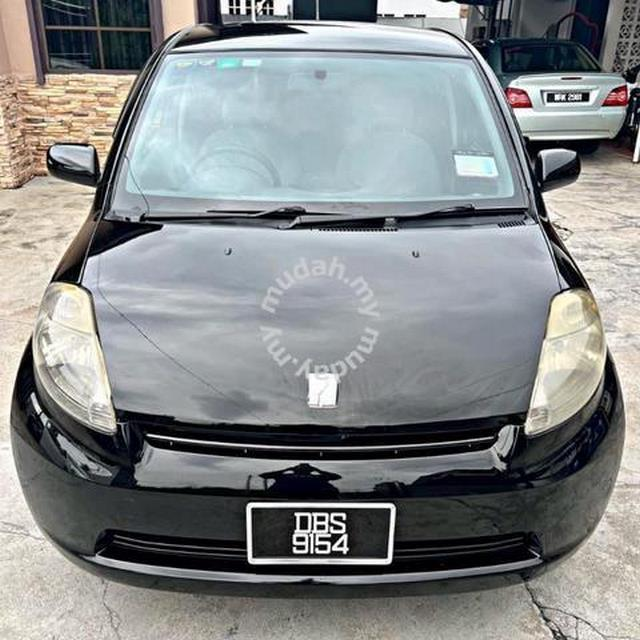License_Plate: (239, 494, 401, 574)
car: (4, 16, 632, 595)
